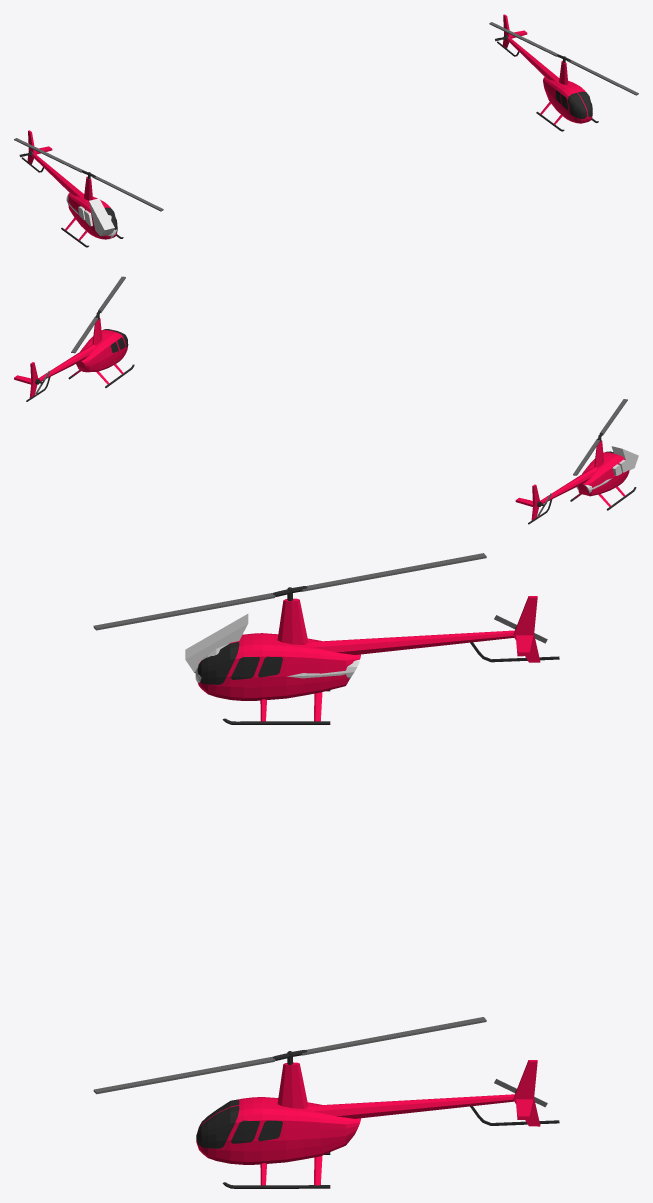
3 views of the same model, one above another, from view 1: azimuth 30°, elevation 25°; view 2: azimuth 150°, elevation 25°; view 3: azimuth 270°, elevation 25° (orthographic). The views are drawn at different scales.
Parts seen in each view (by area): view 1: Fuselage, Rotor main, windows bounds, Cylinder.001, Nose; view 2: Fuselage, Tail, Cylinder.001, Nose, Rotor main; view 3: Fuselage, Nose, Tail, Cylinder.001, Rotor main, windows bounds, Cylinder.002, Plane.002, Plane.003, window.
Boxes of the visible parts, x1=… form: Fuselage: x1=497, y1=14, x2=598, y2=131; Rotor main: x1=489, y1=22, x2=638, y2=95; windows bounds: x1=89, y1=198, x2=114, y2=236; Cylinder.001: x1=31, y1=152, x2=84, y2=197; Nose: x1=79, y1=198, x2=117, y2=239; Fuselage: x1=14, y1=318, x2=134, y2=401; Tail: x1=578, y1=461, x2=612, y2=496; Cylinder.001: x1=540, y1=467, x2=596, y2=503; Nose: x1=592, y1=452, x2=629, y2=490; Rotor main: x1=71, y1=276, x2=125, y2=353; Fuselage: x1=196, y1=1060, x2=559, y2=1188; Nose: x1=198, y1=633, x2=286, y2=700; Tail: x1=286, y1=638, x2=360, y2=698; Cylinder.001: x1=306, y1=630, x2=514, y2=654; Rotor main: x1=93, y1=1017, x2=486, y2=1094; windows bounds: x1=185, y1=614, x2=248, y2=673; Cylinder.002: x1=277, y1=598, x2=308, y2=644; Plane.002: x1=302, y1=553, x2=486, y2=591; Plane.003: x1=93, y1=592, x2=275, y2=630; window: x1=197, y1=642, x2=239, y2=684.
Bounding box in the file's own units: 1189 × 139 × 454.
